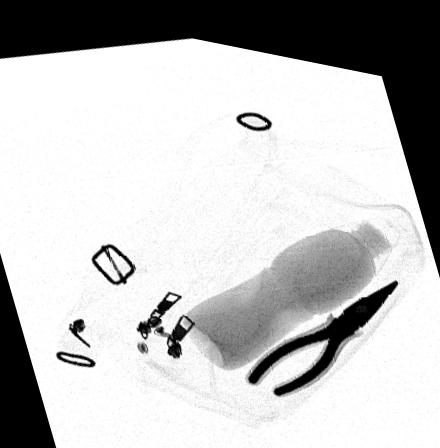Pliers: (246, 262, 398, 383)
